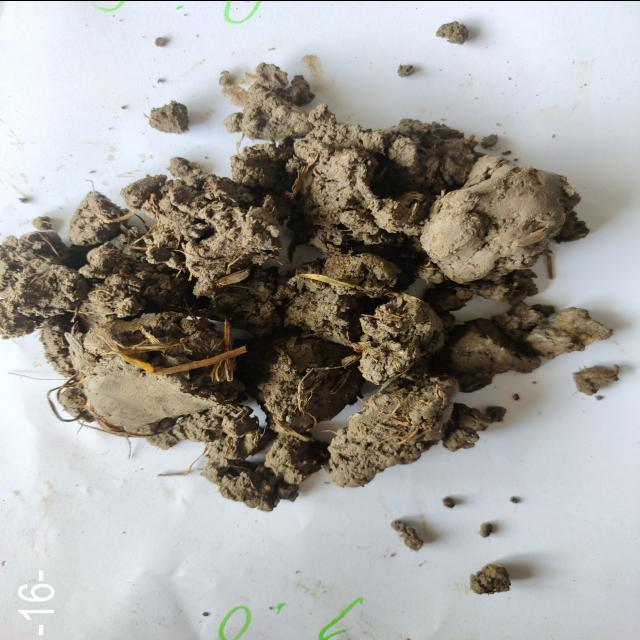soil: (112, 195, 472, 399)
